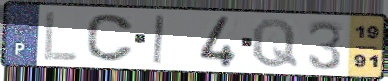3: (305, 18, 344, 72)
4: (197, 15, 240, 70)
C: (84, 12, 136, 64)
I: (151, 14, 166, 66)
L: (41, 9, 80, 63)
Q: (251, 17, 301, 70)
